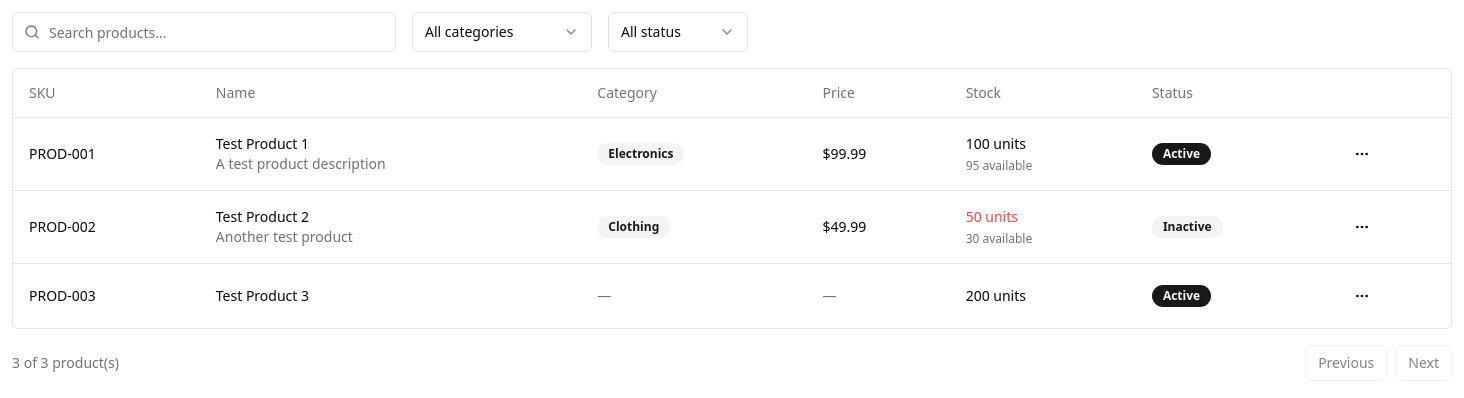
Test: ProductsTable › Search Functionality › should filter products by SKU
Step 1. Type "PROD-001" into the field with placeholder "Search products..." → x=204, y=32, box x1=12 y1=12 x2=396 y2=52
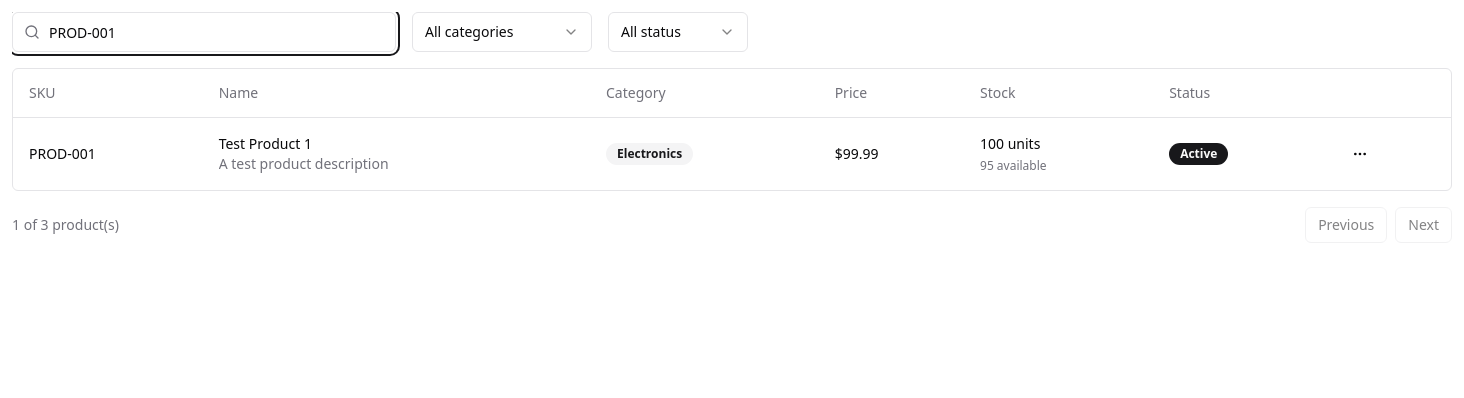
Expected: the text "PROD-001" is shown, x1=29 y1=144 x2=96 y2=162
Expected: the text "PROD-002" is gone
Expected: the text "PROD-003" is gone
